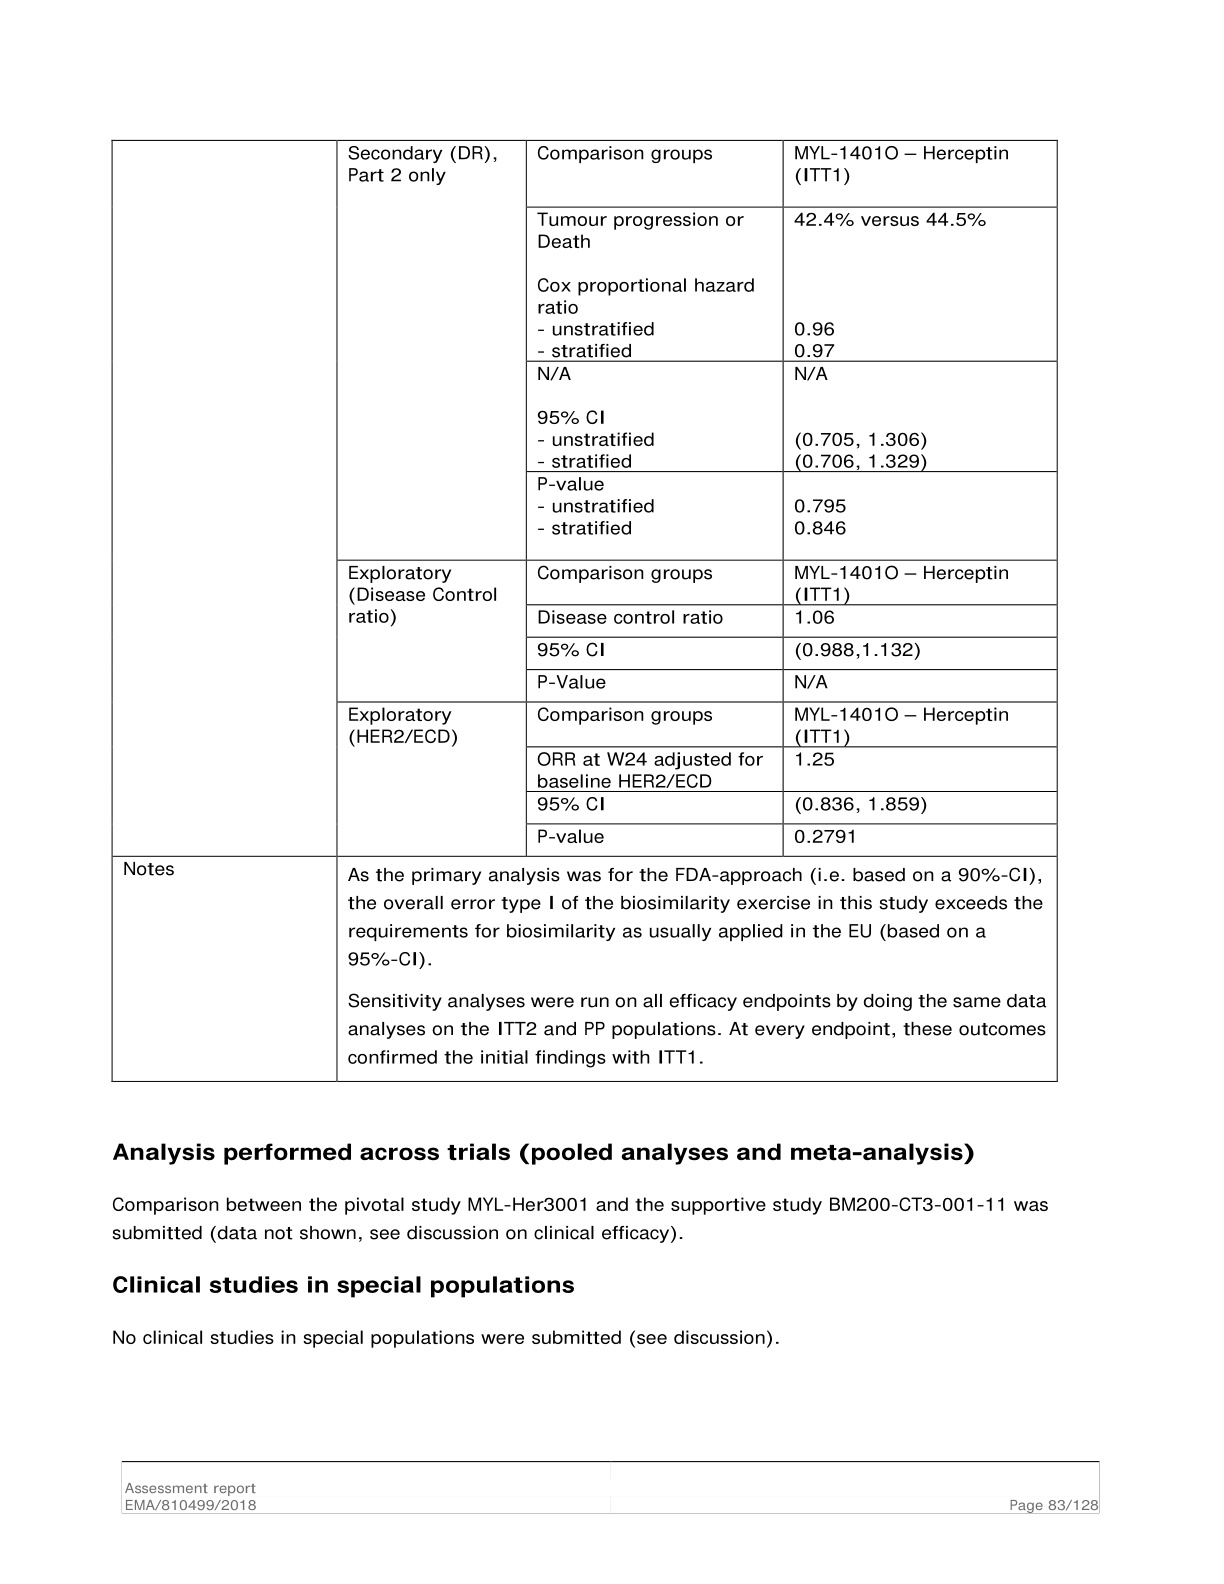merged_cells: (109, 139, 1058, 1083)
